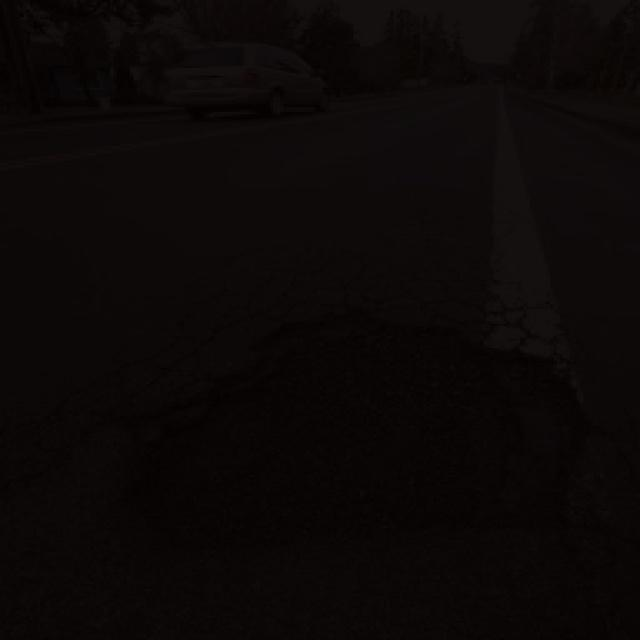Pothole: (114, 298, 604, 566)
